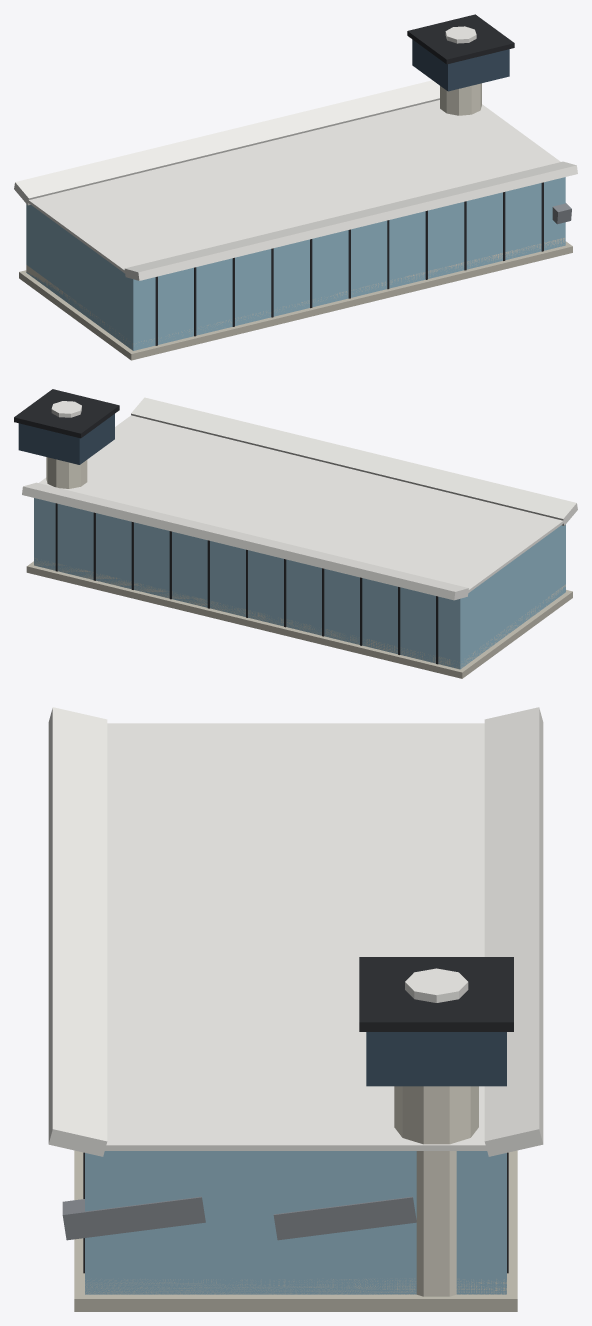
The model's file is building.airport-terminal.glb.
3 renders of one model, top to bottom at view 1: azimuth 30°, elevation 25°; view 2: azimuth 150°, elevation 25°; view 3: azimuth 270°, elevation 25°, orthographic. The views are drawn at different scales.
Parts seen in each view (by area): view 1: building.airport-terminal; view 2: building.airport-terminal; view 3: building.airport-terminal.
Part boxes in pixels (x1,y1,x2,y2): building.airport-terminal: (14, 14, 577, 360); building.airport-terminal: (14, 389, 577, 678); building.airport-terminal: (48, 707, 543, 1311).
Bounding box in the file's own units: 29.5 × 9.75 × 14.07.
